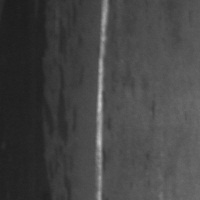inclusion: (1, 2, 74, 199)
scratches: (91, 0, 112, 199)
